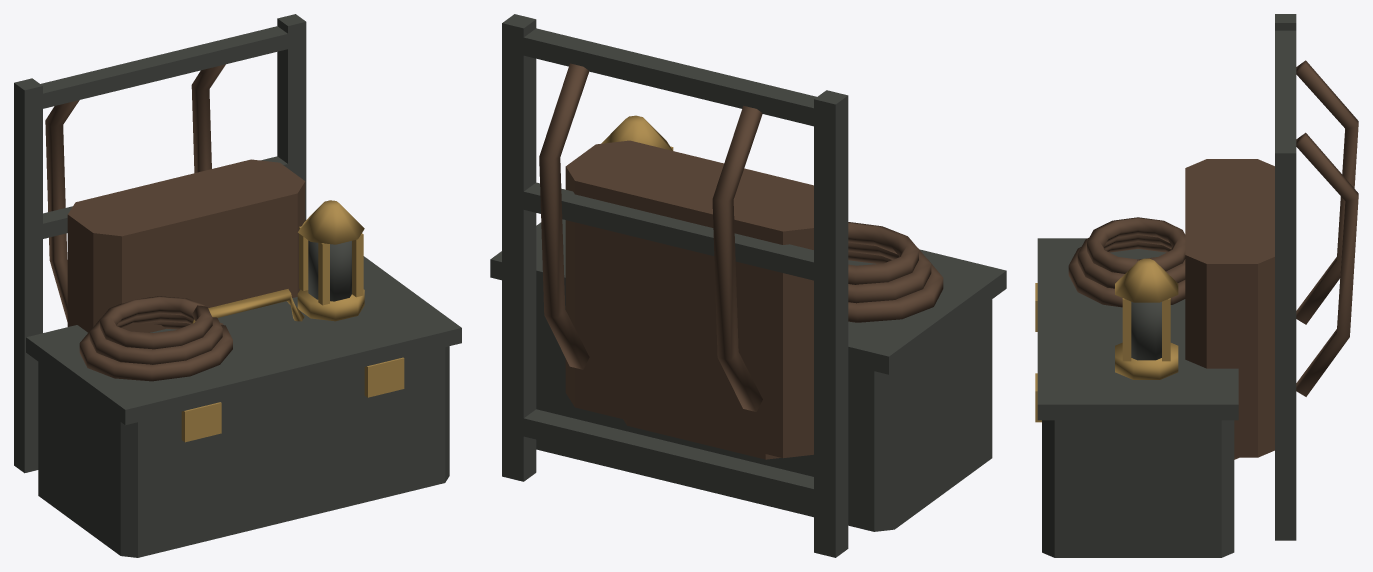
Rendered from salvager_kit.glb.
3 renders of one model, left to right at view 1: azimuth 30°, elevation 25°; view 2: azimuth 150°, elevation 25°; view 3: azimuth 270°, elevation 25°, orthographic. The views are drawn at different scales.
Visible parts, largest first — view 1: salvager_kit; view 2: salvager_kit; view 3: salvager_kit.
Part boxes in pixels (<box>): salvager_kit: <box>14,14,461,557</box>; salvager_kit: <box>490,14,1006,557</box>; salvager_kit: <box>1035,14,1358,557</box>.
Bounding box in the file's own units: 0.92 × 1 × 0.7553.
